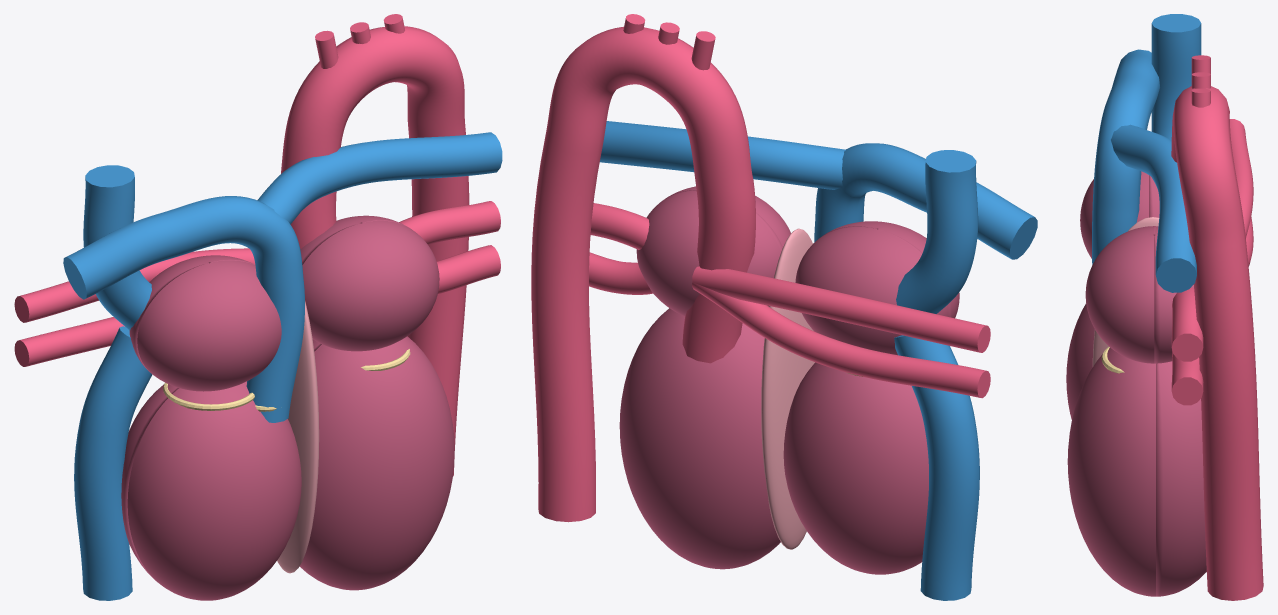
File: heart_legacy.glb
The picture shows the model from 3 angles, left to right: view 1: azimuth 30°, elevation 25°; view 2: azimuth 150°, elevation 25°; view 3: azimuth 270°, elevation 25°; orthographic projection. The views are drawn at different scales.
Parts seen in each view (by area): view 1: left_ventricle_cover, right_ventricle_cover, aorta_vessel, pulmonary_artery_vessel, right_atrium_cover, left_atrium_cover, vena_cava_vessel.001, pulmonary_artery_vessel.001, vena_cava_vessel, Septum_wall, pulmonary_veins_vessel.003, pulmonary_veins_vessel.001 (+7 smaller); view 2: aorta_vessel, left_ventricle_cutaway, right_ventricle_cutaway, vena_cava_vessel.001, pulmonary_artery_vessel, right_atrium_cutaway, vena_cava_vessel, pulmonary_veins_vessel.003, pulmonary_veins_vessel.001, pulmonary_artery_vessel.001, Septum_wall, left_atrium_cutaway (+5 smaller); view 3: aorta_vessel, left_ventricle_cover, left_ventricle_cutaway, left_atrium_cover, pulmonary_artery_vessel, pulmonary_artery_vessel.001, vena_cava_vessel, right_ventricle_cover, pulmonary_veins_vessel.002, left_atrium_cutaway, pulmonary_veins_vessel.003, pulmonary_veins_vessel (+6 smaller).
Boxes of the visible parts, x1,y1,x2,y2 form: left_ventricle_cover: [300, 336, 454, 590]; right_ventricle_cover: [127, 381, 301, 600]; aorta_vessel: [281, 26, 469, 476]; pulmonary_artery_vessel: [63, 196, 304, 422]; right_atrium_cover: [137, 260, 281, 391]; left_atrium_cover: [302, 220, 439, 351]; vena_cava_vessel.001: [74, 326, 152, 600]; pulmonary_artery_vessel.001: [257, 132, 502, 224]; vena_cava_vessel: [83, 165, 151, 330]; Septum_wall: [277, 301, 319, 573]; pulmonary_veins_vessel.003: [14, 248, 255, 322]; pulmonary_veins_vessel.001: [14, 317, 124, 366]; aorta_vessel: [531, 26, 755, 522]; left_ventricle_cutaway: [619, 308, 780, 569]; right_ventricle_cutaway: [783, 362, 928, 574]; vena_cava_vessel.001: [894, 335, 979, 600]; pulmonary_artery_vessel: [814, 143, 1037, 259]; right_atrium_cutaway: [795, 226, 951, 355]; vena_cava_vessel: [896, 150, 978, 313]; pulmonary_veins_vessel.003: [692, 266, 990, 352]; pulmonary_veins_vessel.001: [692, 280, 990, 398]; pulmonary_artery_vessel.001: [600, 121, 845, 189]; Septum_wall: [761, 228, 814, 549]; left_atrium_cutaway: [636, 190, 782, 316]; aorta_vessel: [1171, 86, 1263, 600]; left_ventricle_cover: [1067, 347, 1155, 596]; left_ventricle_cutaway: [1156, 361, 1206, 596]; left_atrium_cover: [1085, 226, 1154, 363]; pulmonary_artery_vessel: [1092, 49, 1159, 264]; pulmonary_artery_vessel.001: [1111, 124, 1196, 292]; vena_cava_vessel: [1151, 14, 1201, 140]; right_ventricle_cover: [1066, 303, 1094, 419]; pulmonary_veins_vessel.002: [1171, 287, 1203, 361]; left_atrium_cutaway: [1154, 226, 1193, 363]; pulmonary_veins_vessel.003: [1230, 119, 1253, 237]; pulmonary_veins_vessel: [1171, 350, 1203, 405].
Bounding box in the file's own units: 3.72 × 4.24 × 1.43.
